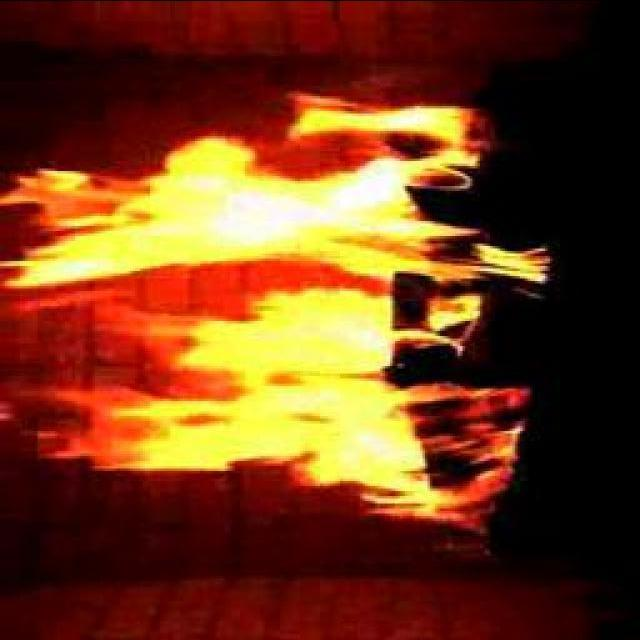Fire: (82, 116, 500, 468)
